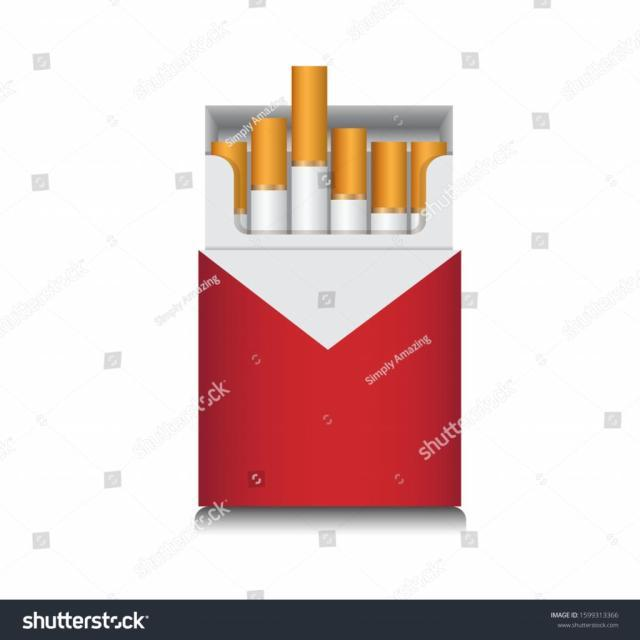smoking: (199, 65, 461, 507)
